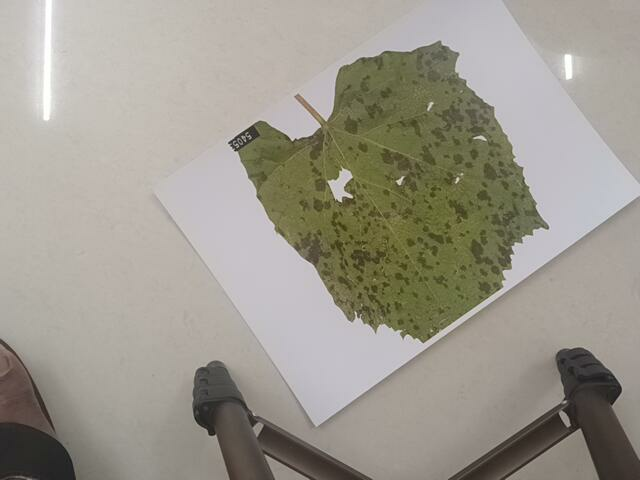Grape_Blight_Leaf: (230, 37, 587, 345)
